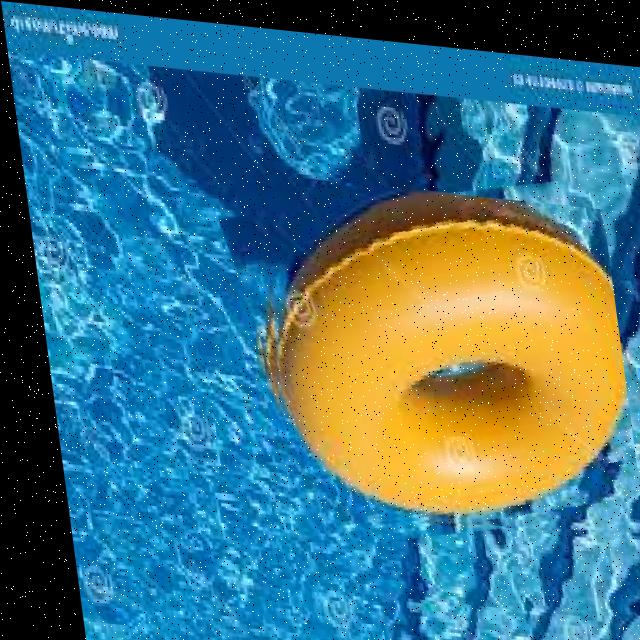lifesaver: (263, 183, 615, 515)
